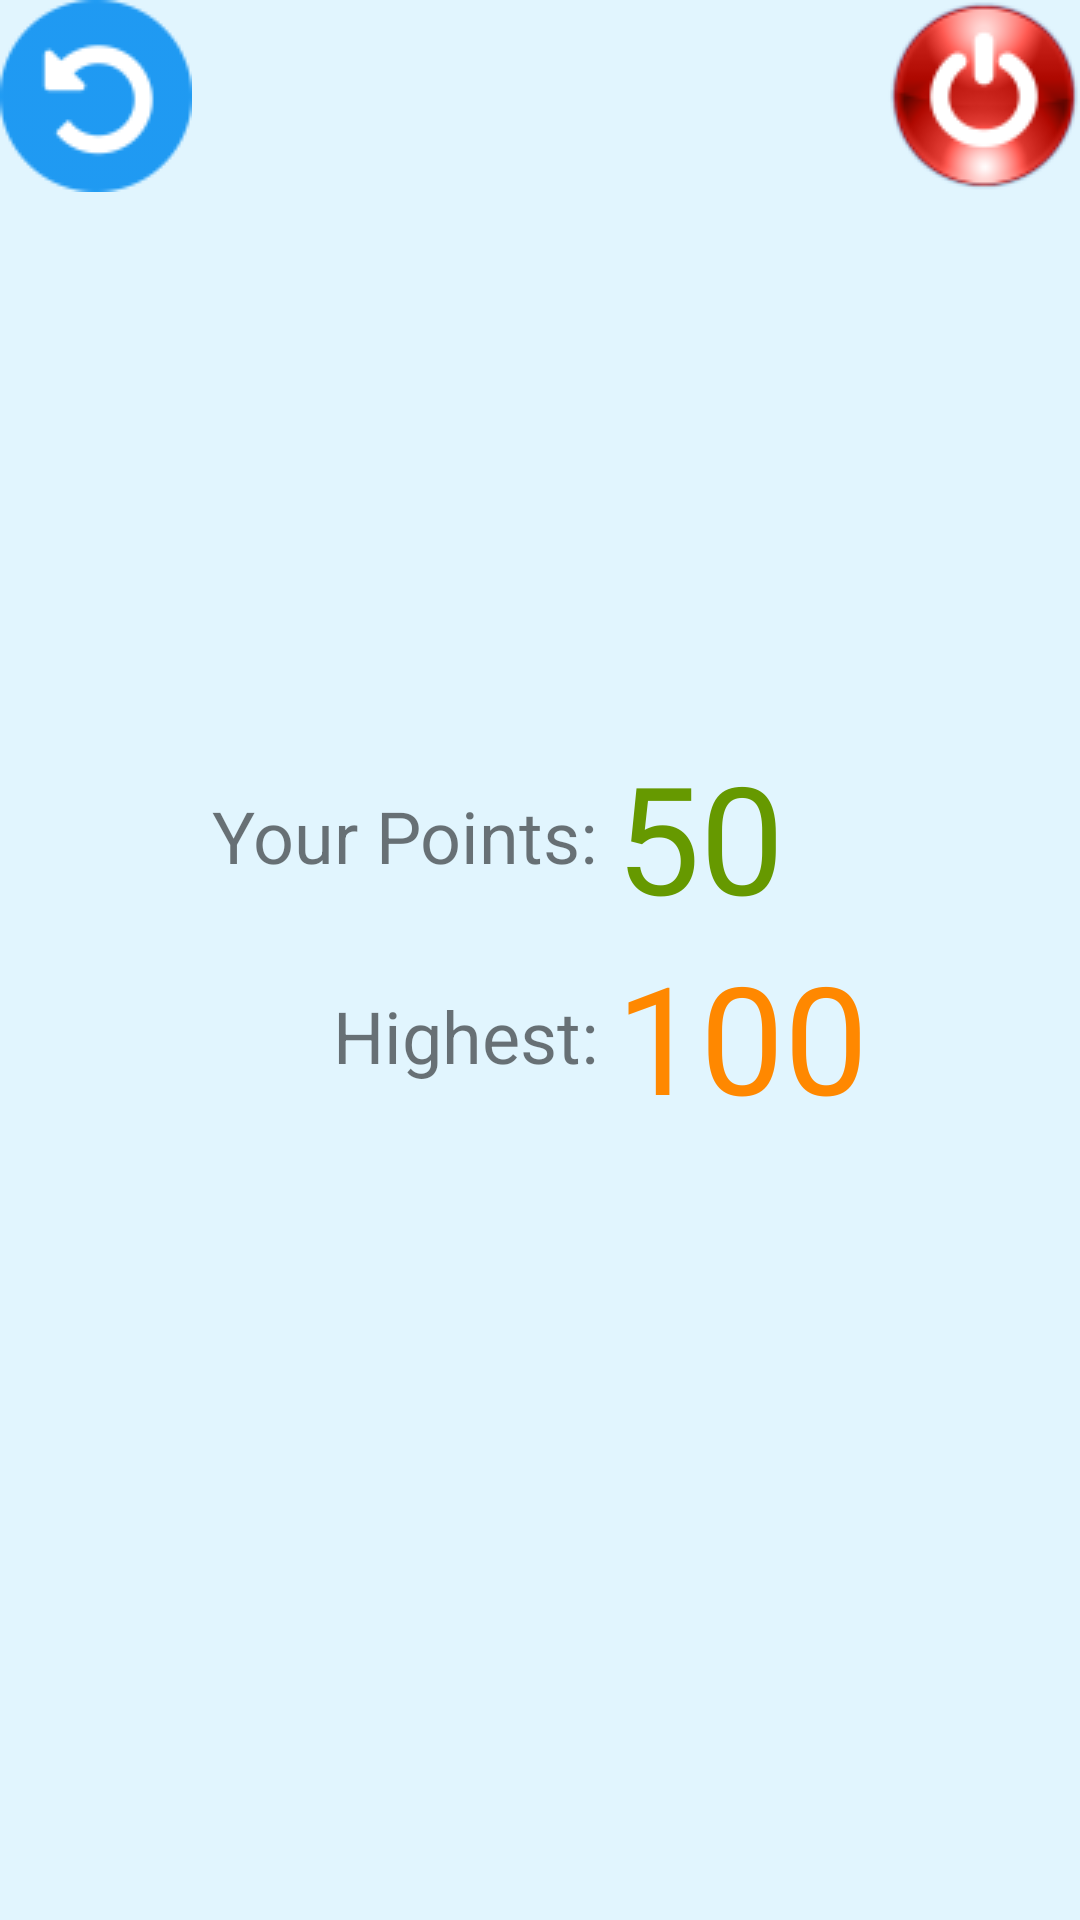

Locate icon controls on the screen. Image size 1080 x 1920, boxes as (x1, y1, x2, y2).
exit: (891, 3, 1077, 187)
restart: (0, 0, 192, 192)
